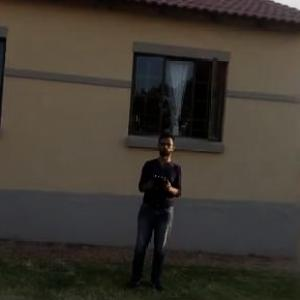follow: (124, 128, 183, 295)
